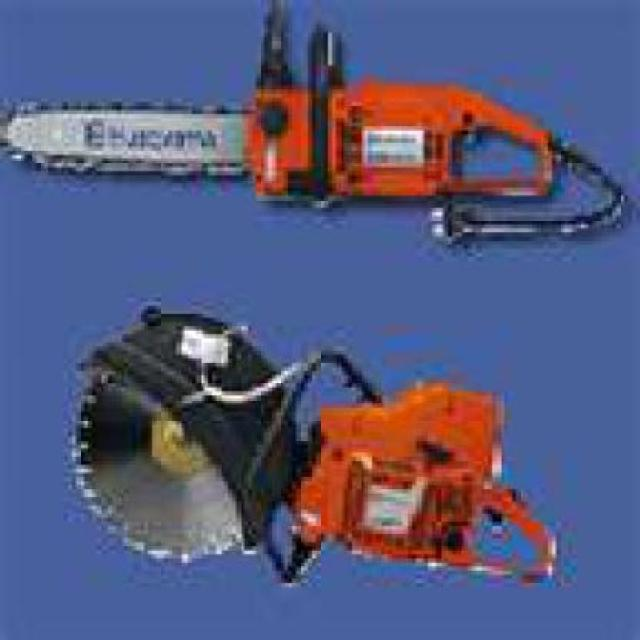Chainsaw: (0, 0, 626, 254), (69, 297, 563, 588)
